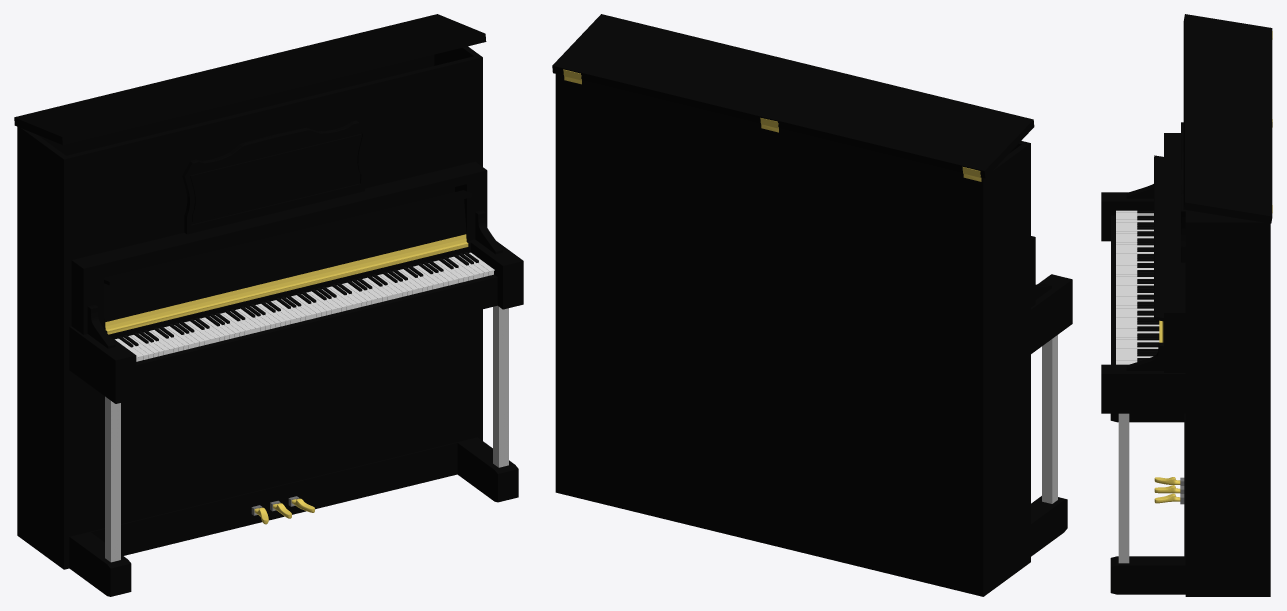
File: by-piano.glb
The picture shows the model from 3 angles, left to right: view 1: azimuth 30°, elevation 25°; view 2: azimuth 150°, elevation 25°; view 3: azimuth 270°, elevation 25°; orthographic projection. The views are drawn at different scales.
Parts seen in each view (by area): view 1: Cube, Plane.001, Cube.003_Cube.005, Cube.001, Cube.002, Cube.013; view 2: Cube, Cube.013; view 3: Cube, Cube.002, Cube.001, Cube.013, Plane.001, Cube.003_Cube.005, Cube.004_Cube.003, Cube.005_Cube.004.
Boxes of the visible parts, x1,y1,x2,y2 form: Cube: (14, 14, 523, 596); Plane.001: (104, 190, 471, 334); Cube.003_Cube.005: (182, 120, 367, 234); Cube.001: (71, 161, 487, 334); Cube.002: (115, 252, 494, 361); Cube.013: (105, 305, 508, 562); Cube: (552, 14, 1072, 596); Cube.013: (1042, 335, 1057, 503); Cube: (1101, 14, 1272, 596); Cube.002: (1116, 210, 1159, 364); Cube.001: (1164, 133, 1185, 372); Cube.013: (1118, 413, 1129, 563); Plane.001: (1154, 155, 1163, 342); Cube.003_Cube.005: (1181, 122, 1185, 262); Cube.004_Cube.003: (1126, 342, 1163, 370); Cube.005_Cube.004: (1126, 184, 1153, 198).
Bounding box in the file's own units: 1.41 × 1.38 × 0.543.
